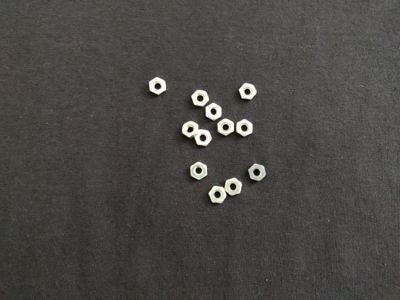nut: (148, 77, 168, 96), (224, 177, 243, 197), (208, 185, 227, 205), (238, 83, 257, 102), (194, 128, 213, 147), (248, 163, 267, 182), (190, 162, 208, 182), (191, 89, 210, 107), (236, 119, 254, 138), (181, 121, 200, 139), (205, 103, 223, 121), (217, 118, 235, 136)
